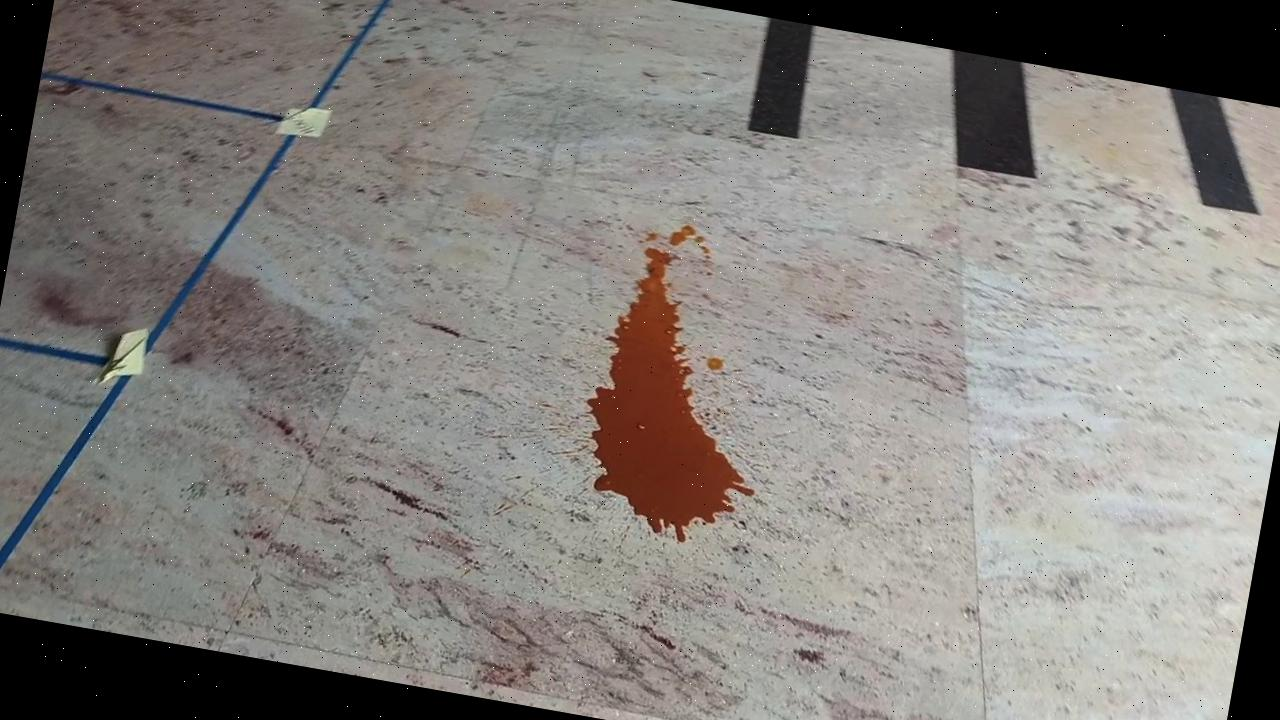dirty_floor: (568, 214, 796, 556)
